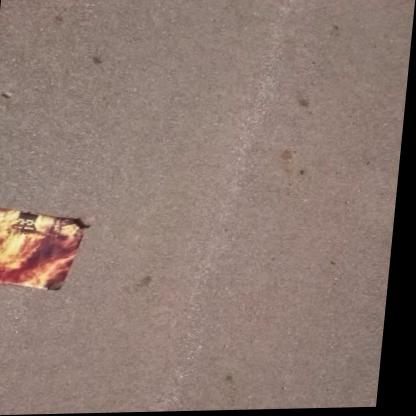fire-poster: (0, 203, 101, 294)
